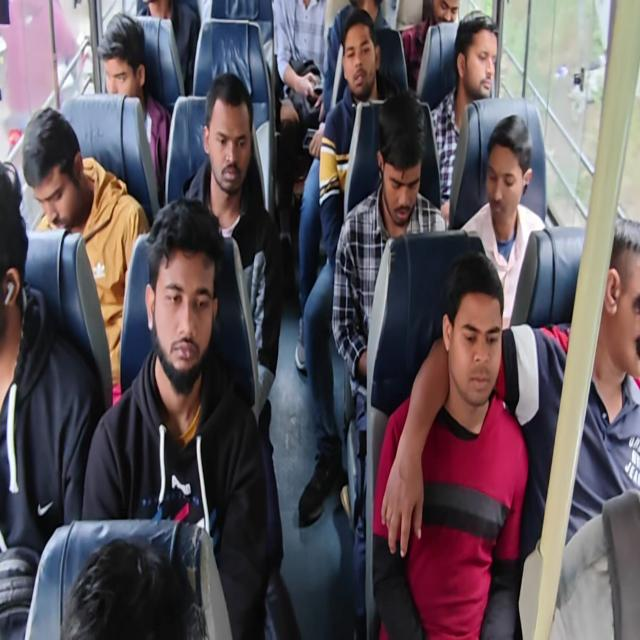person: (56, 535, 214, 640), (24, 110, 104, 230), (152, 219, 210, 381), (588, 212, 640, 391), (0, 158, 36, 365), (443, 272, 500, 400), (374, 113, 423, 224), (204, 89, 251, 202), (101, 20, 148, 105), (486, 137, 530, 217), (458, 24, 502, 88), (343, 29, 378, 92), (346, 0, 381, 29), (426, 0, 462, 27)
